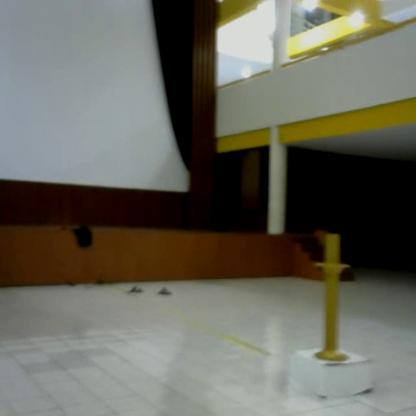pole: (310, 231, 360, 369)
